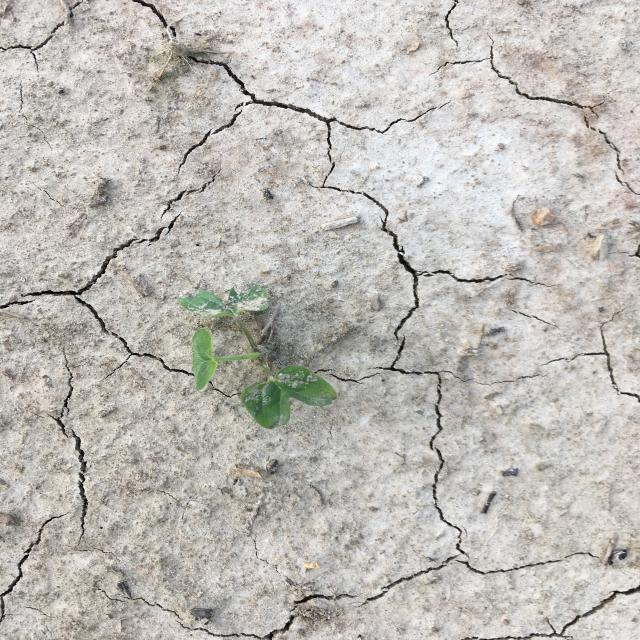MorningGlory: (174, 281, 338, 432)
